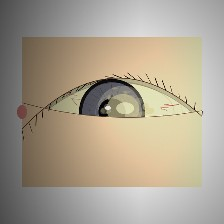corneal_ulcer: (96, 88, 150, 130)
